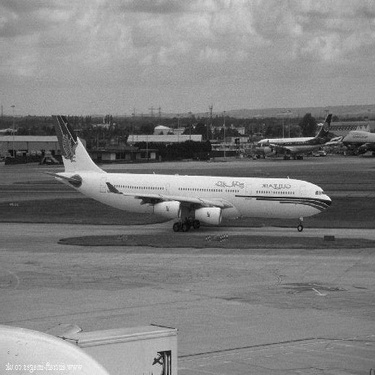airplane: (28, 104, 347, 254), (236, 107, 335, 160), (341, 115, 372, 162)
